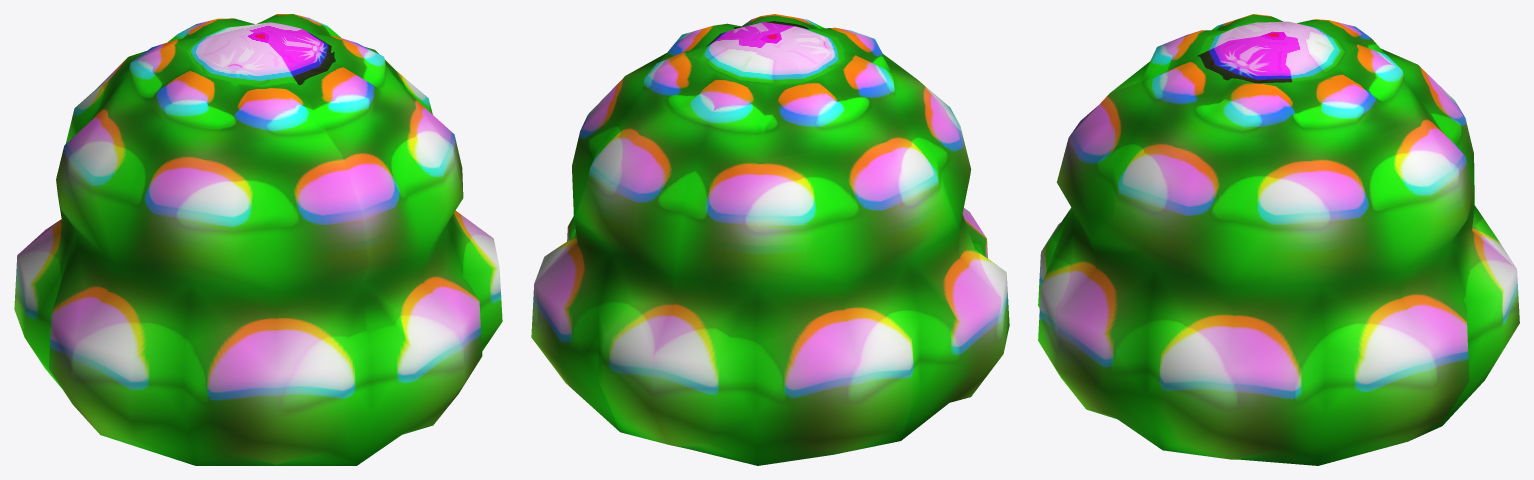
File: BushSnow.fbx
The picture shows the model from 3 angles, left to right: view 1: azimuth 30°, elevation 25°; view 2: azimuth 150°, elevation 25°; view 3: azimuth 270°, elevation 25°; orthographic projection. The views are drawn at different scales.
Parts seen in each view (by area): view 1: BushSnow; view 2: BushSnow; view 3: BushSnow.
Boxes of the visible parts, bbox=[...] form: BushSnow: bbox=[14, 14, 502, 465]; BushSnow: bbox=[531, 14, 1009, 465]; BushSnow: bbox=[1038, 14, 1519, 465].
Size of the model in its own units: 190 by 154 by 188.
